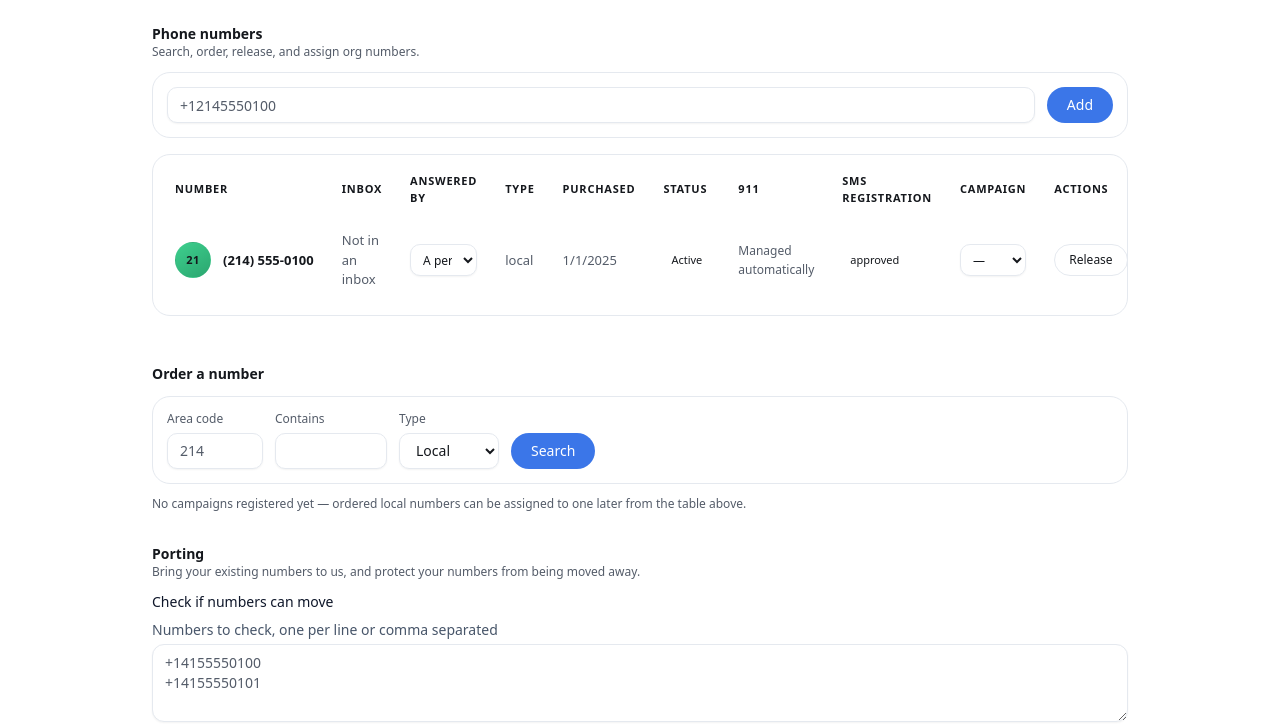
Test: NumbersPage › shows the grant inbox link after ordering a number
Click the button "Search": (553, 450) [511, 432, 595, 468]
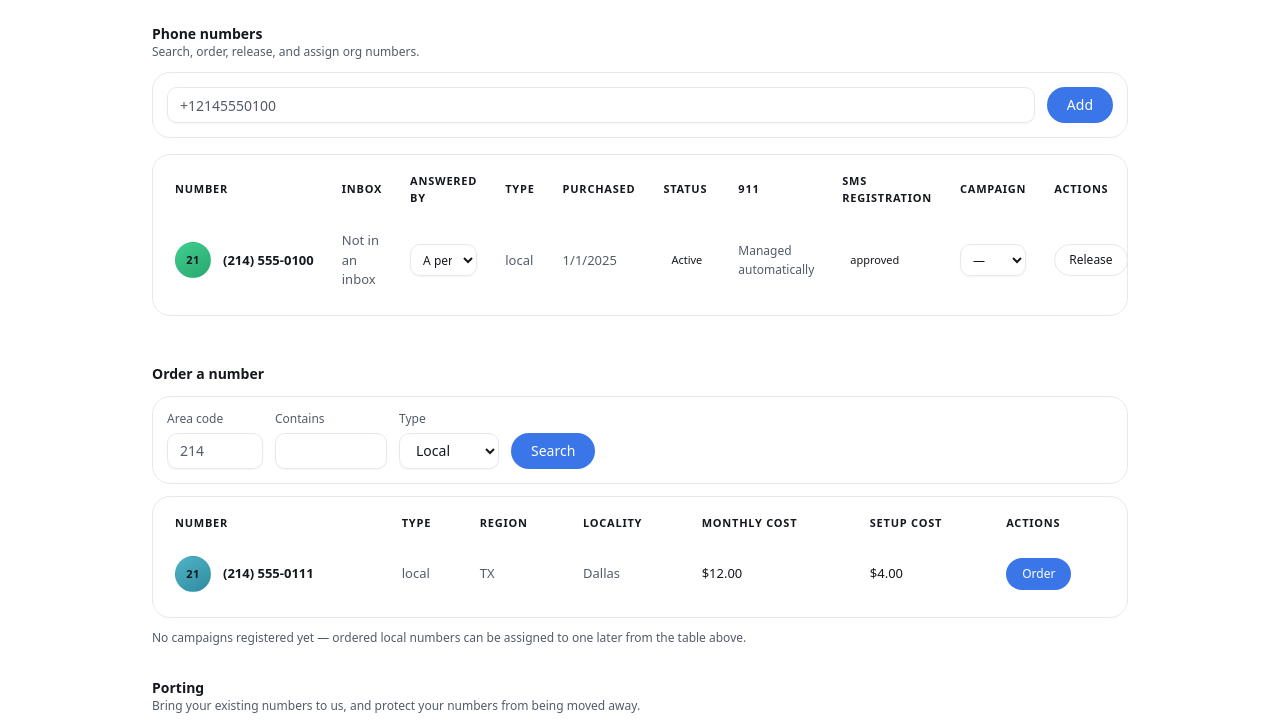
Click the button "Order": (1039, 574) [1006, 558, 1071, 590]
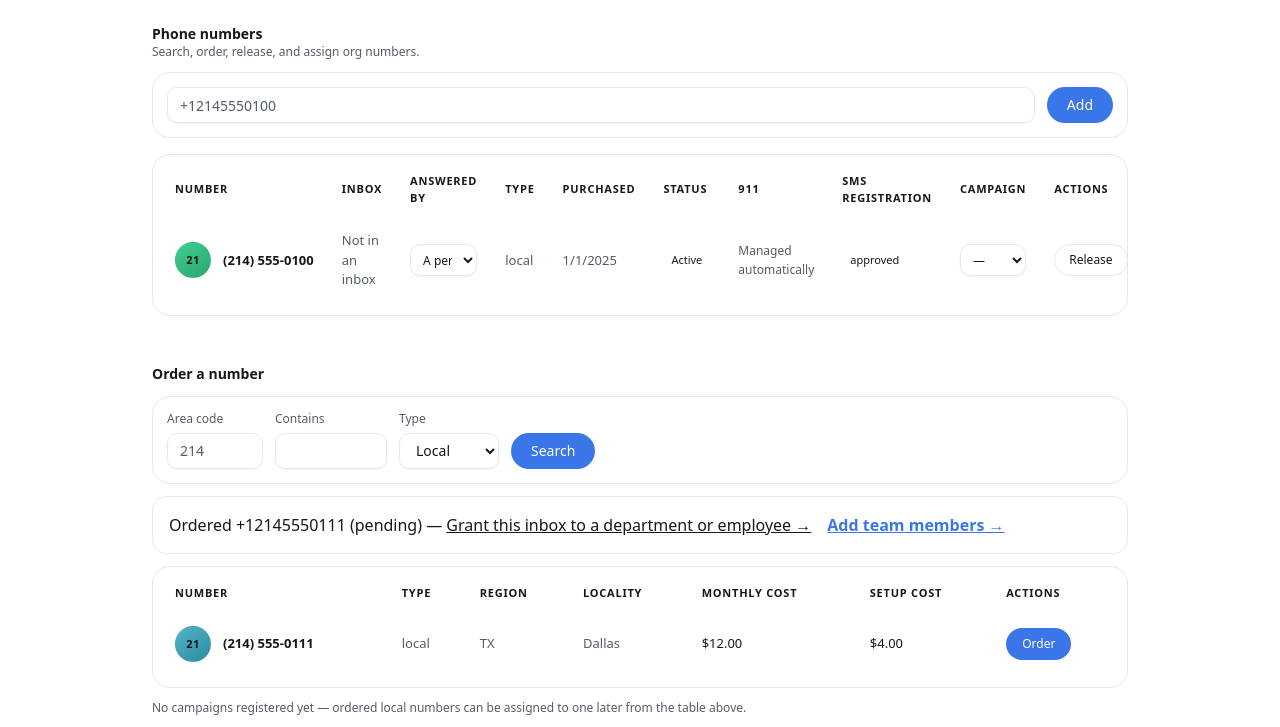
Now the text "Ordered +12145550111 (pending)" is shown, box [169, 512, 1004, 536]
